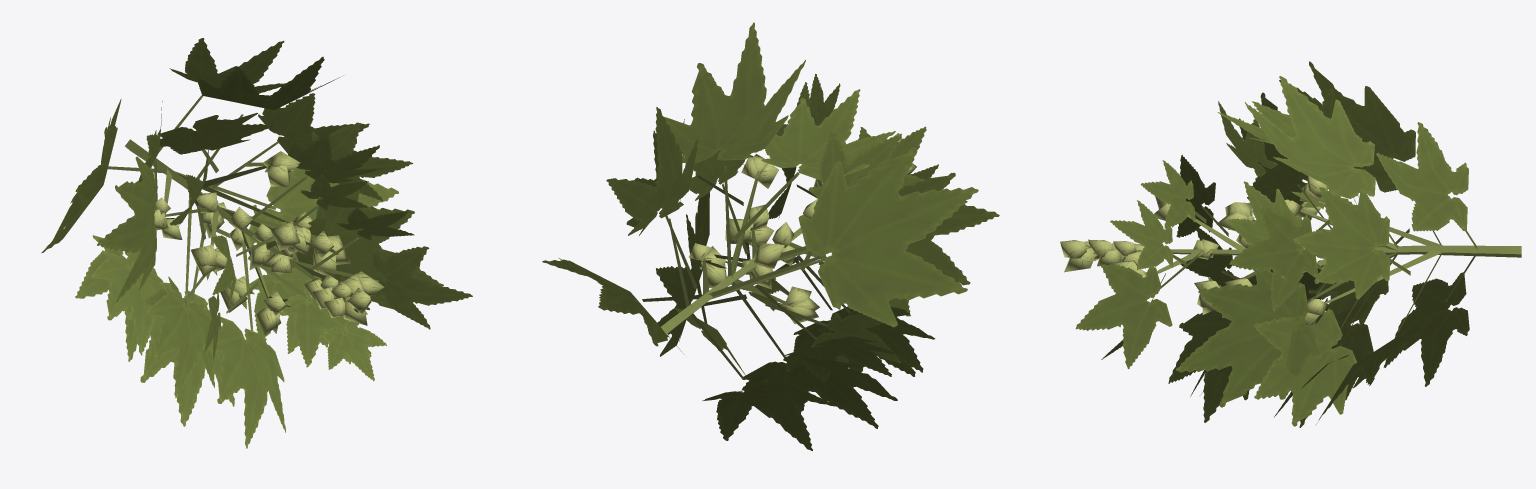
File: p_male_kush_flowering_c1_cards.obj
The picture shows the model from 3 angles, left to right: view 1: azimuth 30°, elevation 25°; view 2: azimuth 150°, elevation 25°; view 3: azimuth 270°, elevation 25°; orthographic projection. The views are drawn at different scales.
Bounding box in the file's own units: 1.63 × 1.4 × 1.4.
1 material, 1 textured.
